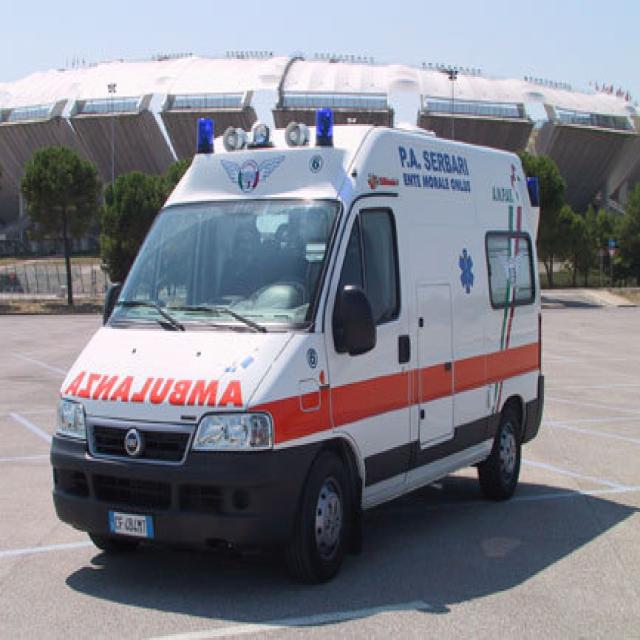emergency-vehicle: (56, 120, 541, 571)
